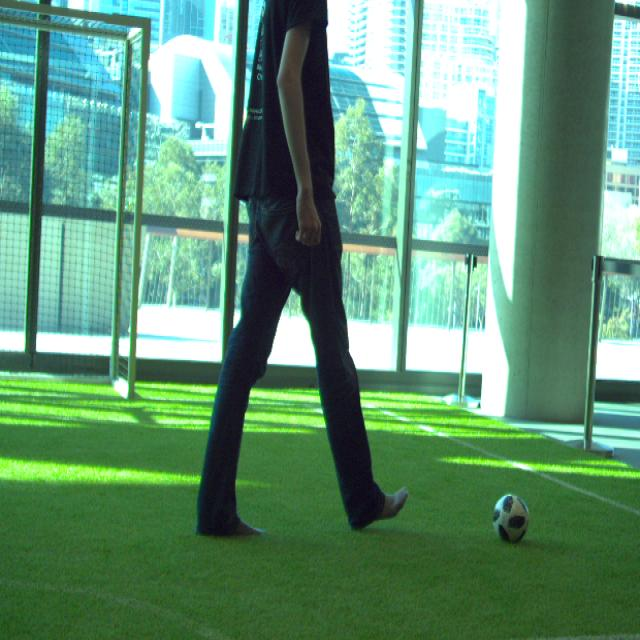ball: (492, 492, 530, 545)
goalpost: (128, 15, 151, 400)
